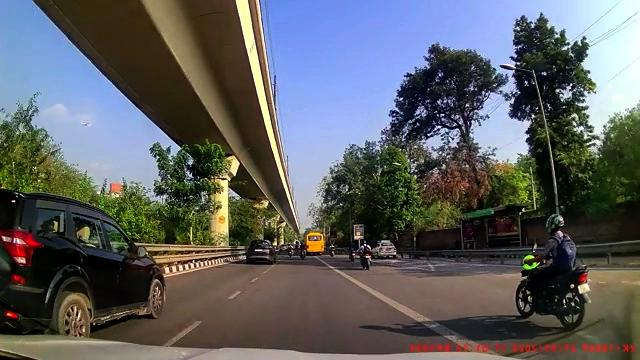motorcycle_with_helmet: (513, 211, 591, 328)
